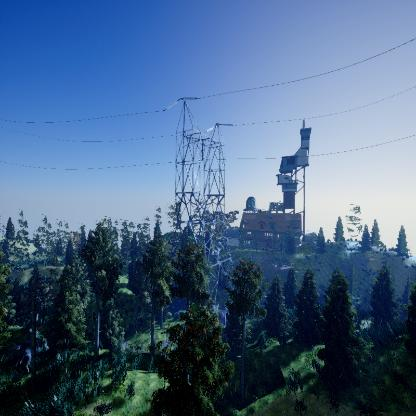tower: (162, 94, 239, 325)
